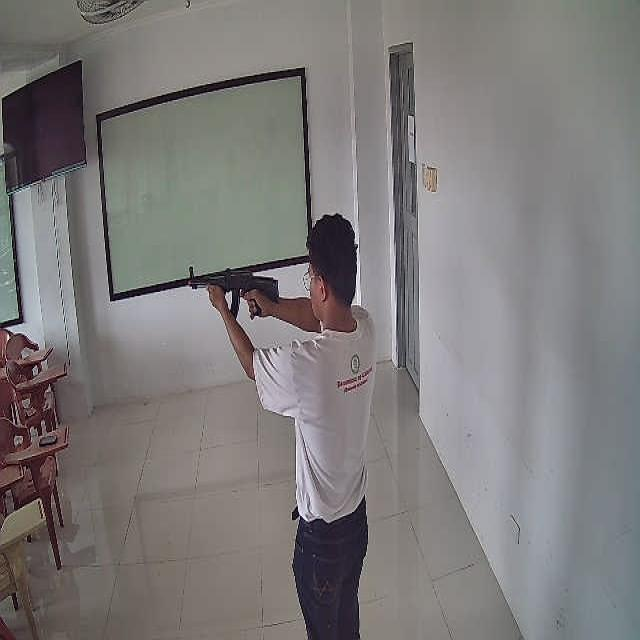rifle: (187, 265, 278, 320)
